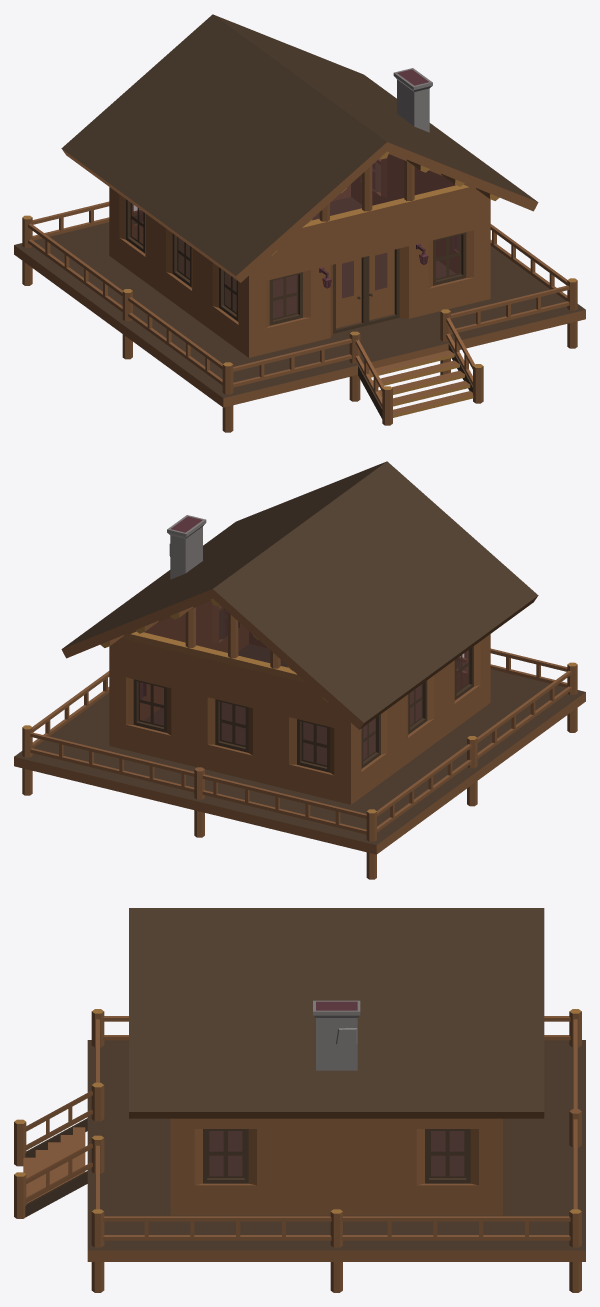
Rendered from building-cabin-big.fbx.
The picture shows the model from 3 angles, top to bottom: view 1: azimuth 30°, elevation 25°; view 2: azimuth 150°, elevation 25°; view 3: azimuth 270°, elevation 25°; orthographic projection. The views are drawn at different scales.
Parts seen in each view (by area): view 1: building-cabin-big; view 2: building-cabin-big; view 3: building-cabin-big.
Part boxes in pixels (bbox=[...]): building-cabin-big: bbox=[14, 14, 585, 432]; building-cabin-big: bbox=[14, 461, 585, 879]; building-cabin-big: bbox=[14, 908, 585, 1292].
Bounding box in the file's own units: 12 × 7.5 × 13.77.
